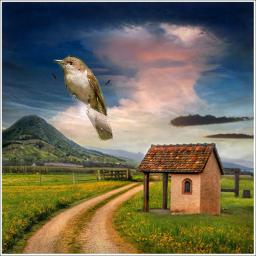Cuckoo: (53, 55, 113, 142)
